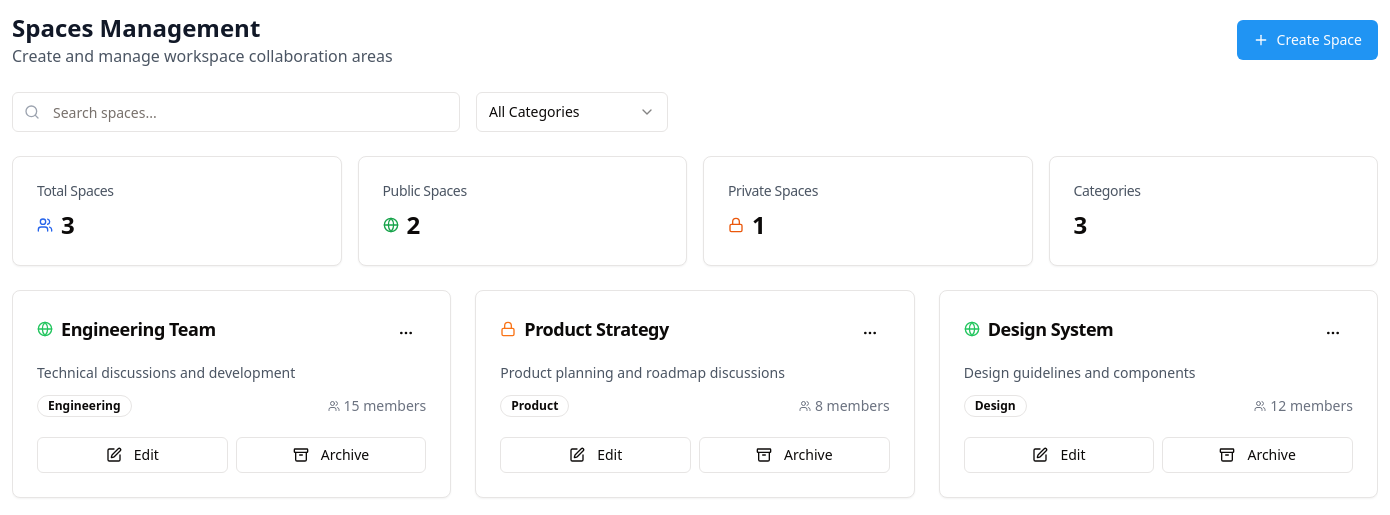
GroupsManagement › Search and Filtering › should filter spaces by search term
Type "Engineering" into the field with placeholder "Search spaces..." at (236, 112), box [12,92,460,132]
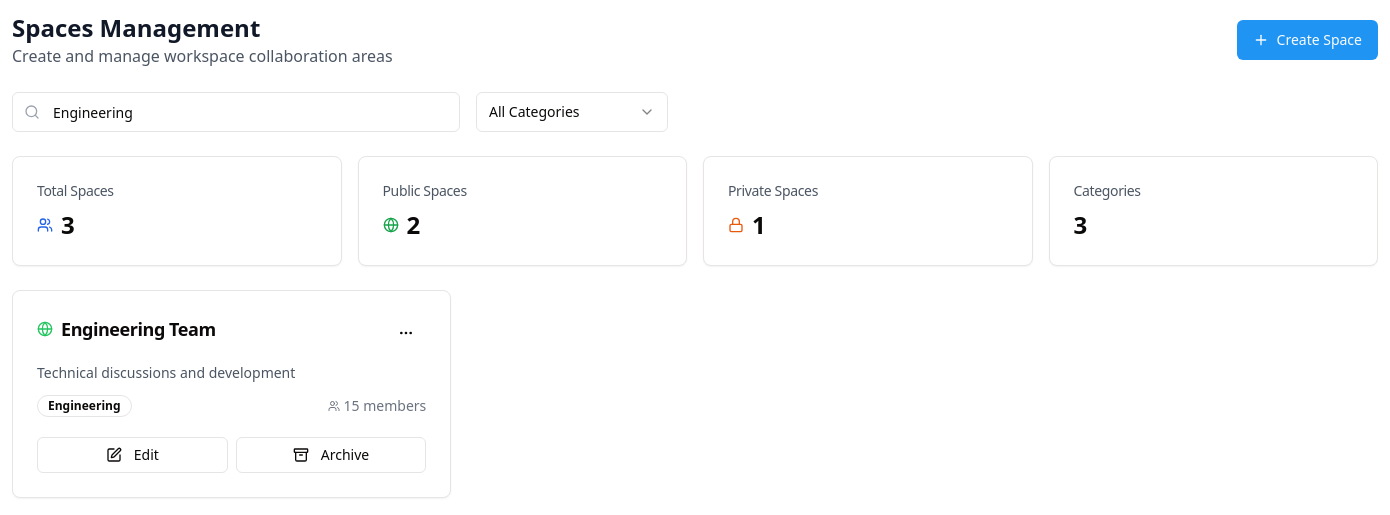
Expected: the text "Engineering Team" is shown, [61,315,216,343]
Expected: the text "Product Strategy" is gone
Expected: the text "Design System" is gone
